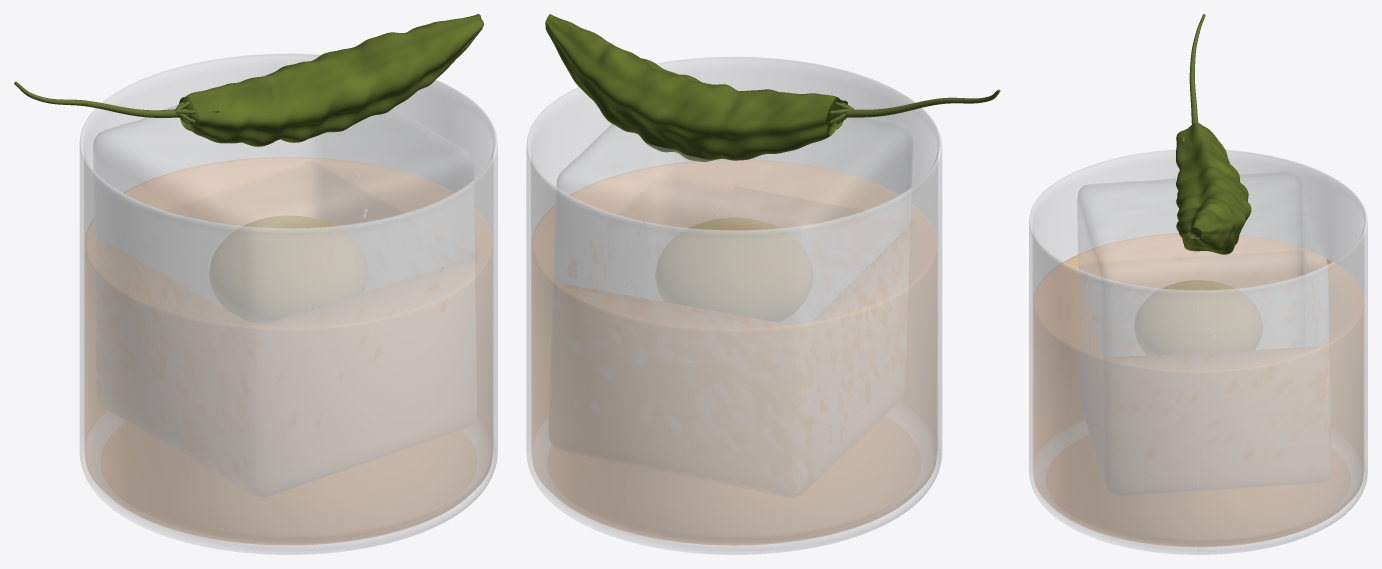
The model's file is negroni-express-interfaces.glb.
3 views of the same model, side by side, from view 1: azimuth 30°, elevation 25°; view 2: azimuth 150°, elevation 25°; view 3: azimuth 270°, elevation 25° (orthographic). The views are drawn at different scales.
Visible parts, largest first — view 1: glass, liquid, ice, garnish_shishito, recipe_modifiers, garnish_stem; view 2: glass, liquid, ice, garnish_shishito, recipe_modifiers, garnish_stem; view 3: glass, liquid, ice, recipe_modifiers, garnish_shishito, garnish_stem.
Part boxes in pixels (x1,y1,x2,y2): glass: (80, 53, 497, 554); liquid: (85, 157, 491, 544); ice: (93, 71, 474, 308); garnish_shishito: (179, 14, 483, 146); recipe_modifiers: (210, 216, 367, 322); garnish_stem: (14, 81, 219, 123); glass: (526, 57, 941, 554); liquid: (532, 159, 936, 545); ice: (553, 81, 912, 323); garnish_shishito: (545, 14, 847, 161); recipe_modifiers: (656, 218, 812, 321); garnish_stem: (830, 89, 1000, 124); glass: (1029, 149, 1367, 554); liquid: (1034, 233, 1362, 546); ice: (1077, 171, 1328, 356); recipe_modifiers: (1135, 280, 1261, 354); garnish_shishito: (1176, 122, 1251, 254); garnish_stem: (1181, 14, 1205, 143).
Size of the model in its own units: 2.54 by 2.41 by 2.
